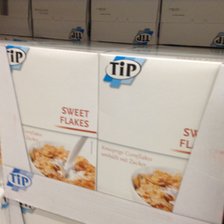cereal: (98, 48, 224, 213), (3, 42, 102, 187)
